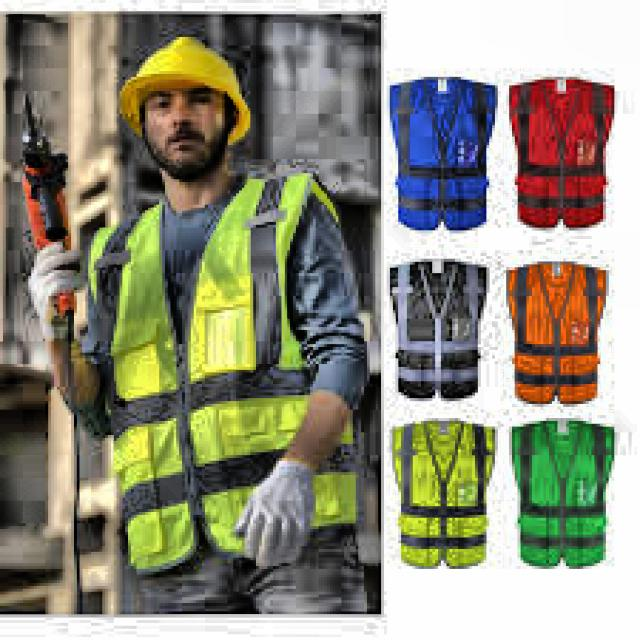safety_helmet: (118, 29, 263, 134)
safety_jacket: (93, 198, 375, 578), (498, 78, 627, 228), (502, 422, 616, 582), (500, 255, 614, 412), (392, 73, 493, 236), (392, 418, 492, 580), (388, 261, 484, 399)
